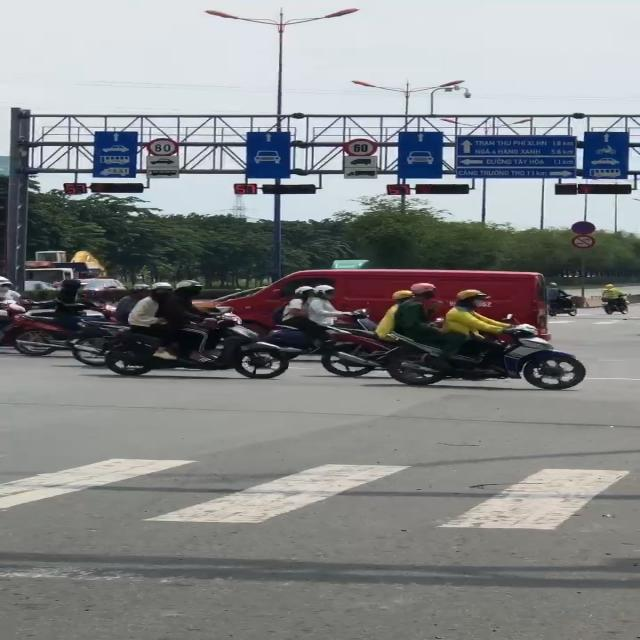Bien bao toc do toi da cho phep: (143, 136, 184, 159), (339, 138, 382, 158)
